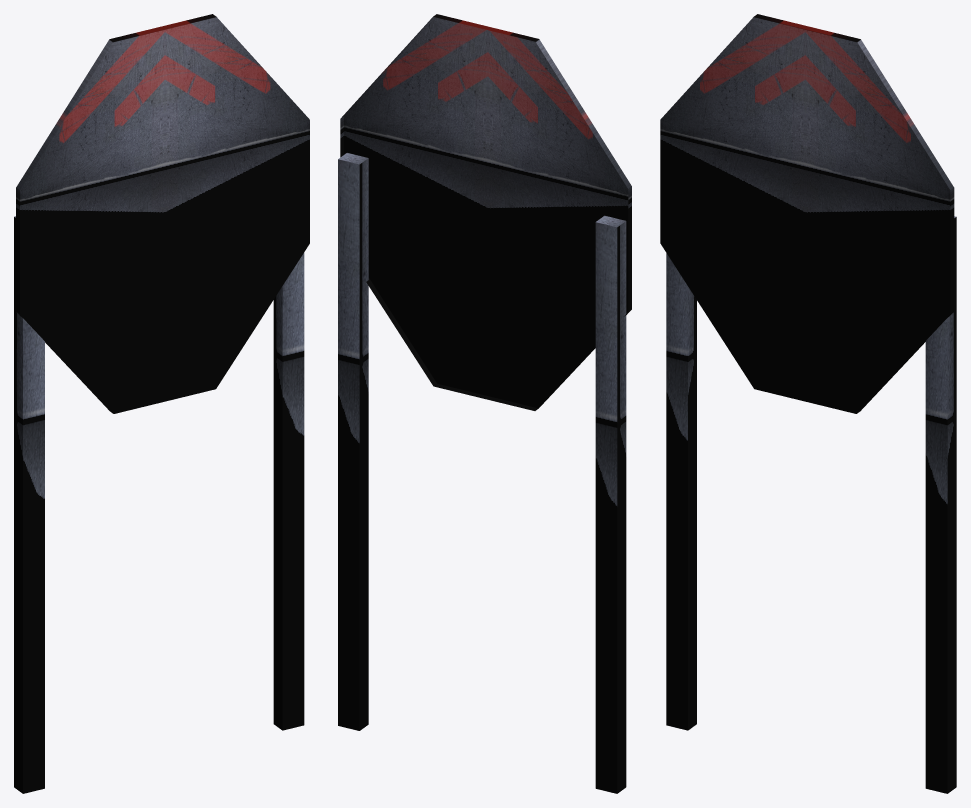
3 views of the same model, side by side, from view 1: azimuth 30°, elevation 25°; view 2: azimuth 150°, elevation 25°; view 3: azimuth 330°, elevation 25° (orthographic).
Parts seen in each view (by area): view 1: Plane03; view 2: Plane03; view 3: Plane03.
Boxes of the visible parts, box(x1,y1,x2,y2) form: Plane03: box(14, 14, 309, 793); Plane03: box(338, 14, 631, 793); Plane03: box(660, 14, 956, 793).
Size of the model in its own units: 24.55 by 1.51 by 59.15.
